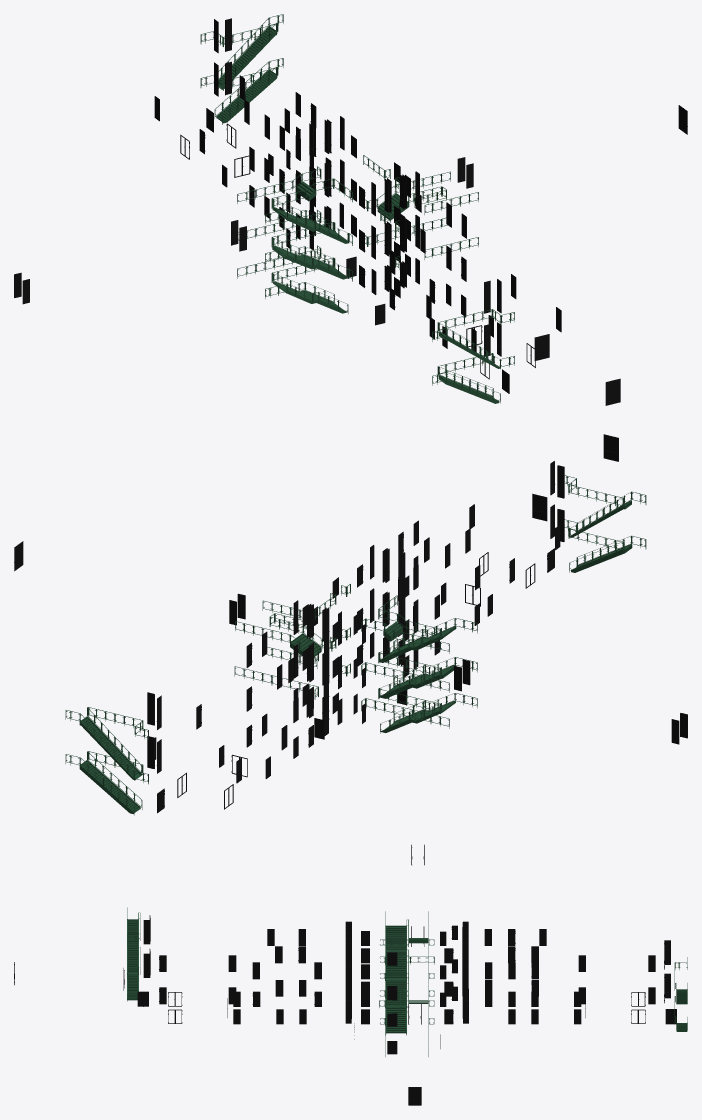
Rendered from tec-props_full.fbx.
3 renders of one model, top to bottom at view 1: azimuth 30°, elevation 25°; view 2: azimuth 150°, elevation 25°; view 3: azimuth 270°, elevation 25°, orthographic. The views are drawn at different scales.
Visible parts, largest first — view 1: F1_stairs, F0_stairs, F0_rails, F2_Rails, F1_Rails_Upper, F1_Rails_Lower; view 2: F1_stairs, F0_stairs, F0_rails, F2_Rails, F1_Rails_Upper, F1_Rails_Lower; view 3: F1_stairs, F0_stairs, B_Stairs.
Boxes of the visible parts, bbox=[...] form: F1_stairs: bbox=[218, 26, 500, 368]; F0_stairs: bbox=[216, 70, 499, 403]; F0_rails: bbox=[237, 217, 478, 298]; F2_Rails: bbox=[237, 155, 399, 224]; F1_Rails_Upper: bbox=[365, 171, 478, 233]; F1_Rails_Lower: bbox=[238, 210, 335, 263]; F1_stairs: bbox=[79, 500, 631, 780]; F0_stairs: bbox=[79, 544, 632, 814]; F0_rails: bbox=[234, 647, 477, 728]; F2_Rails: bbox=[314, 584, 477, 653]; F1_Rails_Upper: bbox=[235, 600, 350, 663]; F1_Rails_Lower: bbox=[361, 652, 477, 692]; F1_stairs: bbox=[127, 919, 687, 1004]; F0_stairs: bbox=[127, 974, 687, 1031]; B_Stairs: bbox=[386, 1008, 406, 1034].
Bounding box in the file's own units: 97.08 × 20.69 × 110.
